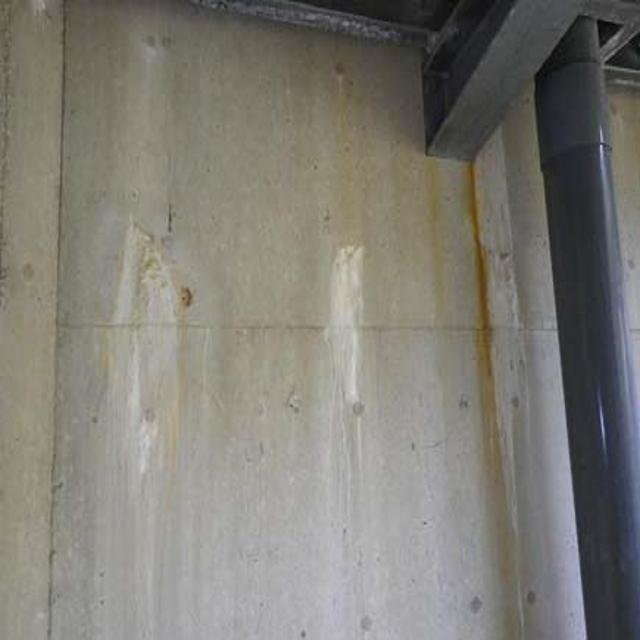freelime: (107, 215, 187, 464), (330, 244, 370, 417)
